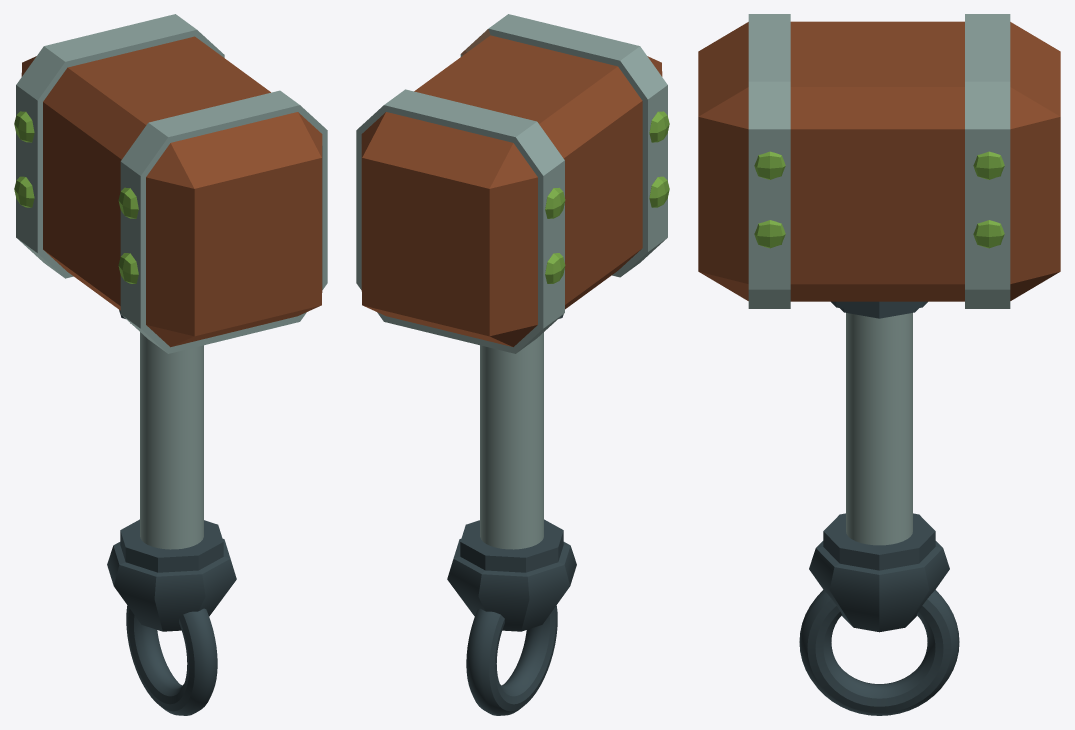
Rendered from Hammer.fbx.
3 views of the same model, side by side, from view 1: azimuth 30°, elevation 25°; view 2: azimuth 150°, elevation 25°; view 3: azimuth 270°, elevation 25° (orthographic). The views are drawn at different scales.
Visible parts, largest first — view 1: Cube; view 2: Cube; view 3: Cube.
Boxes of the visible parts, x1,y1,x2,y2 form: Cube: [14, 14, 327, 715]; Cube: [356, 14, 669, 715]; Cube: [698, 14, 1060, 715].
Bounding box in the file's own units: 140 × 422 × 208.
